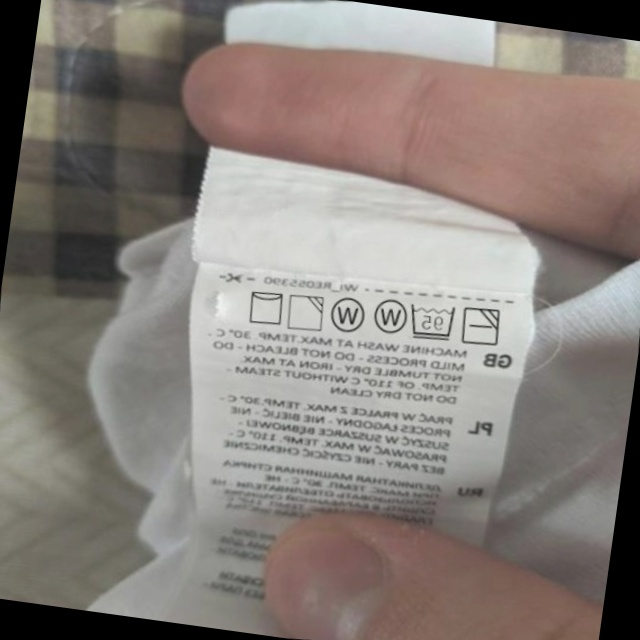95C: (404, 297, 460, 345)
dry_flat_in_shade: (458, 301, 505, 351)
line_dry: (242, 284, 289, 330)
shade_dry: (283, 289, 328, 336)
wet_clean: (326, 292, 369, 339), (368, 292, 411, 338)
